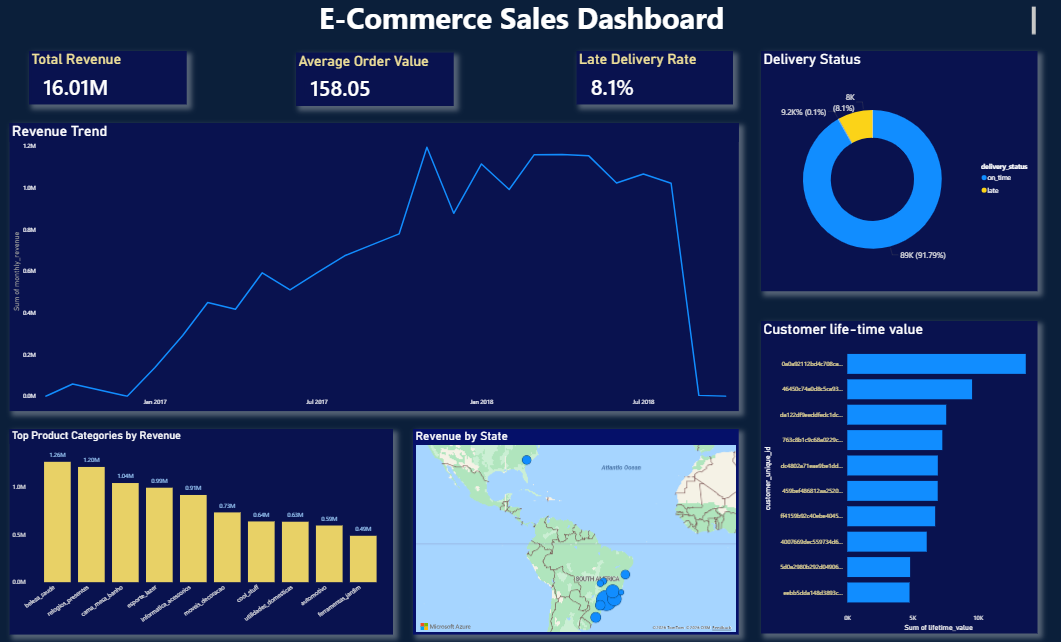

The dashboard page shown, as its layout file describes it:
{"tool":"powerbi","page":{"name":"Page 1","canvas":[2150,1300],"ordinal":0},"visuals":[{"type":"textbox","box":[8.8,0,2090.4,76],"z":0},{"type":"lineChart","title":"Revenue Trend","fields":{"Category":["monthly_revenue.month.Variation.Date Hierarchy.Year","monthly_revenue.month.Variation.Date Hierarchy.Month"],"Y":["Sum(monthly_revenue.monthly_revenue)"]},"box":[20.5,248.5,1473.5,581.8],"z":1000},{"type":"cardVisual","title":"Average Order Value","fields":{"Data":["Avg(monthly_aov.monthly_aov)"]},"box":[599.3,105.2,318.7,108.2],"z":2000},{"type":"cardVisual","title":"Late Delivery Rate","fields":{"Data":["delivery_performance.Late %"]},"box":[1166.5,102.3,315.7,108.2],"z":3000},{"type":"cardVisual","title":"Total Revenue","fields":{"Data":["Sum(monthly_revenue.monthly_revenue)"]},"box":[61.4,102.3,318.7,108.2],"z":4000},{"type":"clusteredColumnChart","title":"Top Product Categories by Revenue","fields":{"Category":["top_category_revenue.product_category_name"],"Y":["Sum(top_category_revenue.total_revenue)"]},"box":[20.5,865.4,774.8,415.2],"z":5000},{"type":"azureMap","title":"Revenue by State","fields":{"Category":["revenue_by_state.customer_state"],"Size":["Sum(revenue_by_state.percentage)"]},"box":[836.2,865.4,657.8,415.2],"z":6000},{"type":"barChart","title":"Customer life-time value","fields":{"Category":["customer_lifetime_value.customer_unique_id"],"Y":["Sum(customer_lifetime_value.lifetime_value)"]},"box":[1540.7,649,558.4,631.5],"z":7000},{"type":"donutChart","title":"Delivery Status","fields":{"Category":["delivery_performance.delivery_status"],"Y":["Sum(delivery_performance.total_orders)","Sum(delivery_performance.percentage)"]},"box":[1540.7,102.3,558.4,485.3],"z":8000}]}

Visuals, with their boxes in screenshot pixels (x1, y1, x2, y2), scaled from the page's 2150x1300 canvas onto the 1061x642 screenshot:
textbox: crop(4, 0, 1036, 38)
"Revenue Trend" lineChart: crop(10, 123, 737, 410)
"Average Order Value" cardVisual: crop(296, 52, 453, 105)
"Late Delivery Rate" cardVisual: crop(576, 51, 731, 104)
"Total Revenue" cardVisual: crop(30, 51, 188, 104)
"Top Product Categories by Revenue" clusteredColumnChart: crop(10, 427, 392, 632)
"Revenue by State" azureMap: crop(413, 427, 737, 632)
"Customer life-time value" barChart: crop(760, 321, 1036, 632)
"Delivery Status" donutChart: crop(760, 51, 1036, 290)
